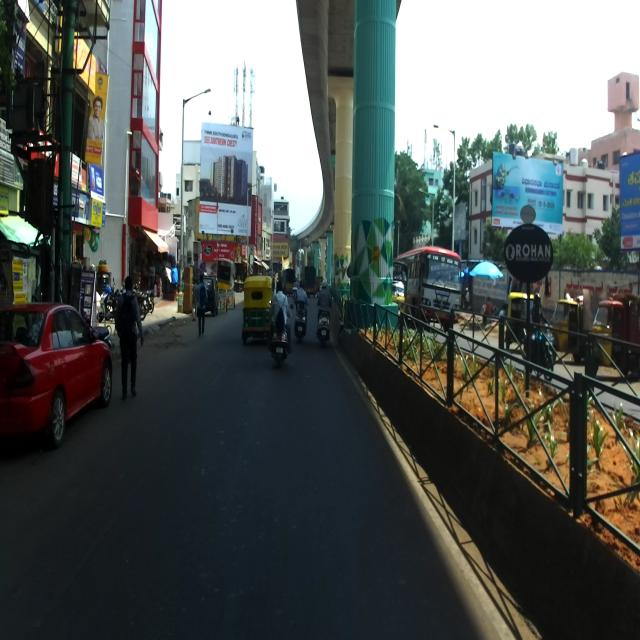auto ahead at: (242, 274, 274, 346)
car ahead at: (3, 301, 116, 451)
person ahead at: (117, 274, 145, 399)
